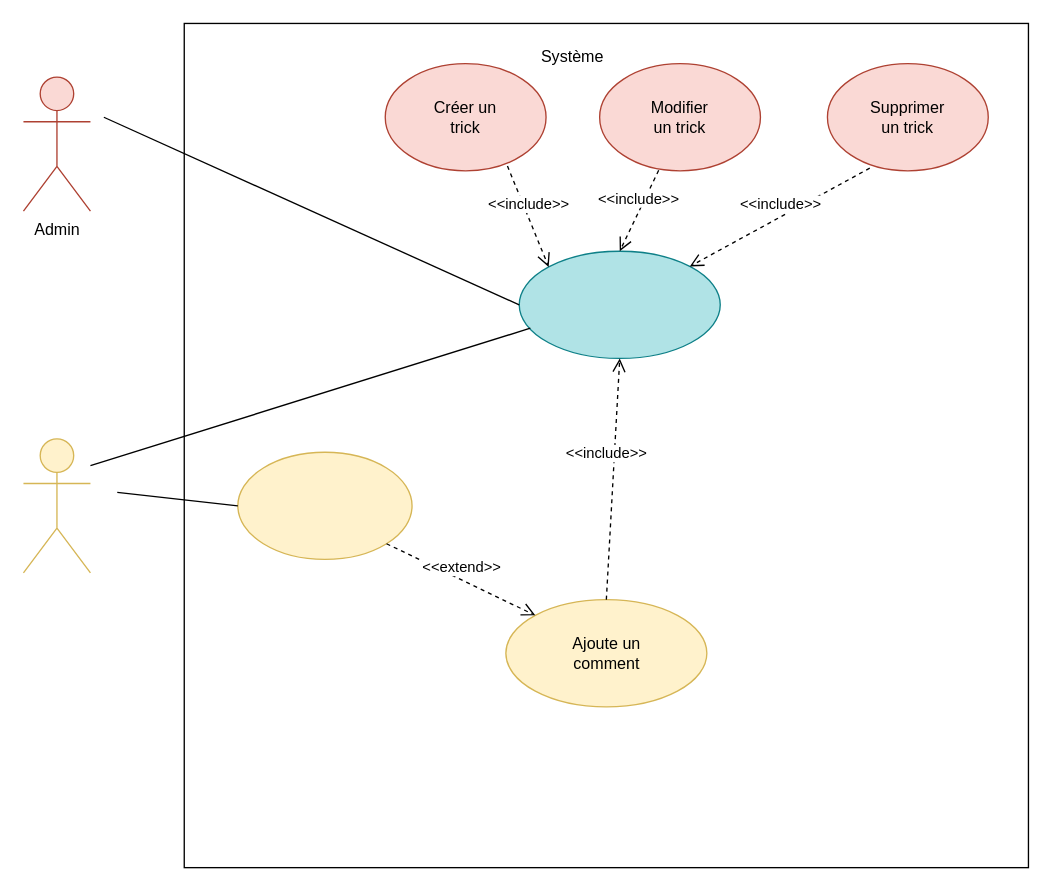
Some shapes in this 1052 by 891 pixel diagram are drawn without their labels. Here are the shapes that lost their labels. From the top down, the centre of each, then its label:
At (619,304): "S'authentifier".
At (56,505): "User".
At (324,505): "Lire un trick".
